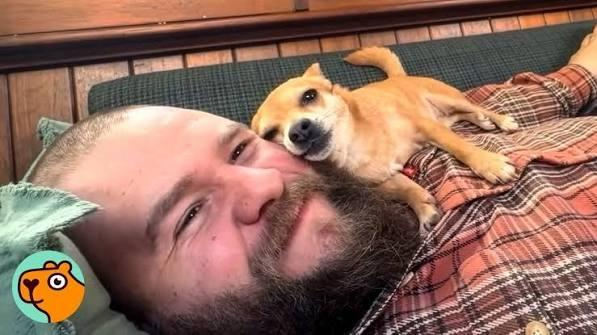adult_dog: (251, 46, 520, 231)
non-dog: (22, 28, 596, 335)
